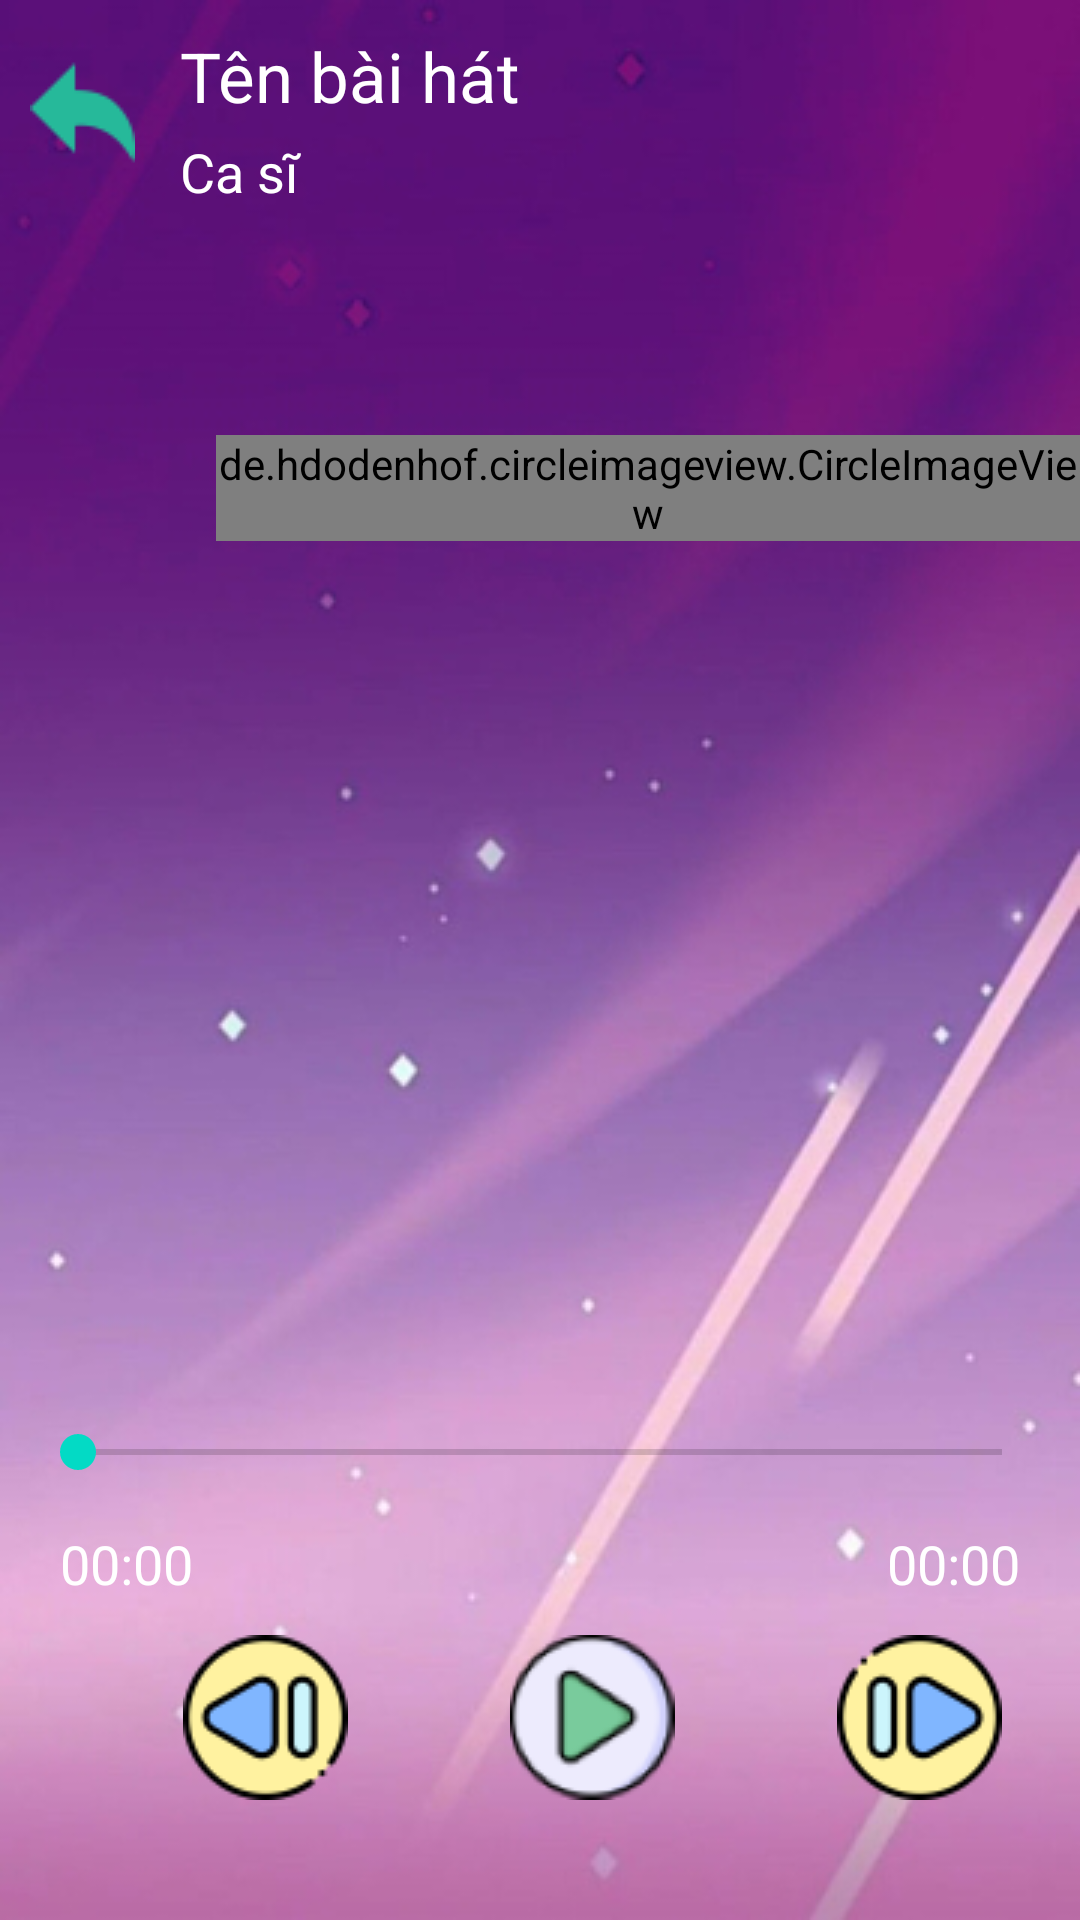

Screen size 1080*1920. Icon name, then its center in pixels as (x=x, y=y):
next: (x=919, y=1717)
play: (x=592, y=1717)
returnico: (x=82, y=112)
